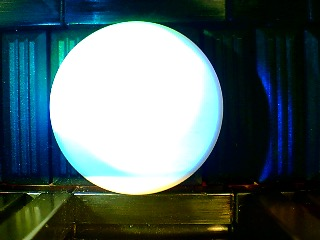BLANK: (47, 20, 224, 196)
